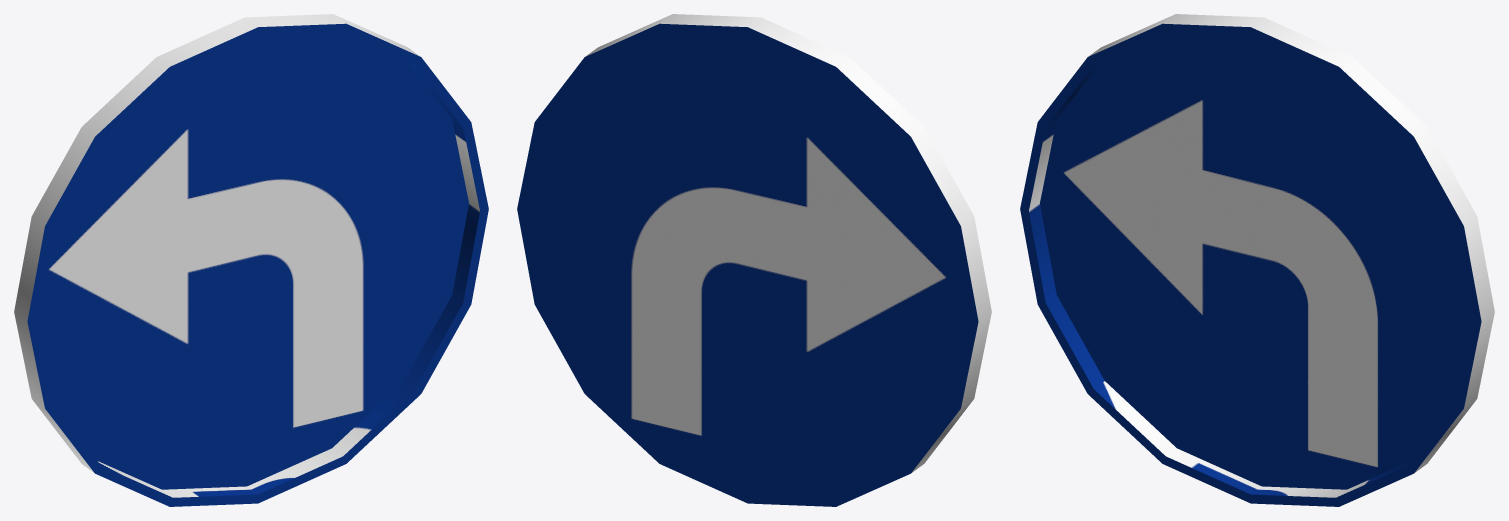
File: prawo.fbx
3 renders of one model, left to right at view 1: azimuth 30°, elevation 25°; view 2: azimuth 150°, elevation 25°; view 3: azimuth 330°, elevation 25°, orthographic.
Visible parts, largest first — view 1: Prohibition_MaximumHeight_LOD0; view 2: Prohibition_MaximumHeight_LOD0; view 3: Prohibition_MaximumHeight_LOD0.
Boxes of the visible parts, left/top/right/bottom form: Prohibition_MaximumHeight_LOD0: left=14, top=14, right=488, bottom=506; Prohibition_MaximumHeight_LOD0: left=517, top=14, right=991, bottom=506; Prohibition_MaximumHeight_LOD0: left=1020, top=14, right=1494, bottom=506.
Size of the model in its own units: 70.96 by 70 by 3.55.
